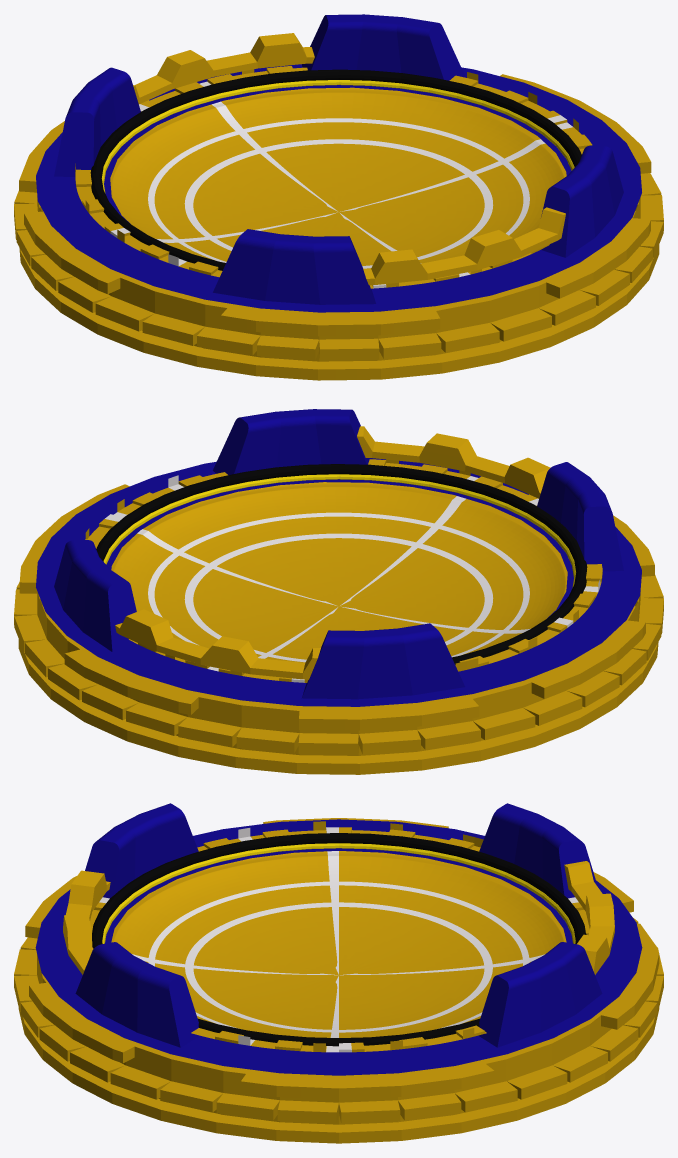
Rendered from GameStadium(1).fbx.
The picture shows the model from 3 angles, top to bottom: view 1: azimuth 30°, elevation 25°; view 2: azimuth 150°, elevation 25°; view 3: azimuth 270°, elevation 25°; orthographic projection.
Parts seen in each view (by area): view 1: Stadium_Base, Circle, Circle.003, Circle.002, Circle.001, Design_2, Glow_2, Glow_1, Design_2.001, Glow_2.001, Glow_1.001; view 2: Stadium_Base, Circle, Circle.003, Circle.002, Circle.001, Design_2.001, Glow_2.001, Design_2, Glow_2, Glow_1.001, Glow_1; view 3: Stadium_Base, Circle, Circle.003, Circle.002, Circle.001, Glow_2, Glow_2.001, Design_2, Design_2.001, Glow_1, Glow_1.001.
Part boxes in pixels (<box>): Stadium_Base: <box>75,66,592,288</box>; Circle: <box>36,14,641,311</box>; Circle.003: <box>14,74,663,380</box>; Circle.002: <box>14,113,663,379</box>; Circle.001: <box>36,14,641,312</box>; Design_2: <box>133,33,565,285</box>; Glow_2: <box>91,69,581,270</box>; Glow_1: <box>101,80,574,193</box>; Design_2.001: <box>250,37,565,278</box>; Glow_2.001: <box>90,75,581,263</box>; Glow_1.001: <box>109,83,572,170</box>; Stadium_Base: <box>85,459,602,682</box>; Circle: <box>36,409,641,706</box>; Circle.003: <box>14,484,663,774</box>; Circle.002: <box>14,484,663,774</box>; Circle.001: <box>36,410,641,701</box>; Design_2.001: <box>115,426,550,679</box>; Glow_2.001: <box>104,464,587,664</box>; Design_2: <box>115,426,476,679</box>; Glow_2: <box>96,464,586,664</box>; Glow_1.001: <box>109,474,575,587</box>; Glow_1: <box>103,475,568,564</box>; Stadium_Base: <box>90,821,589,1052</box>; Circle: <box>36,803,642,1075</box>; Circle.003: <box>14,818,663,1143</box>; Circle.002: <box>14,818,663,1143</box>; Circle.001: <box>35,804,641,1075</box>; Glow_2: <box>92,833,586,1046</box>; Glow_2.001: <box>93,833,585,1045</box>; Design_2: <box>63,861,614,974</box>; Design_2.001: <box>64,863,614,974</box>; Glow_1: <box>109,843,575,943</box>; Glow_1.001: <box>102,843,568,943</box>.
Size of the model in its own units: 280 by 55.02 by 280.
